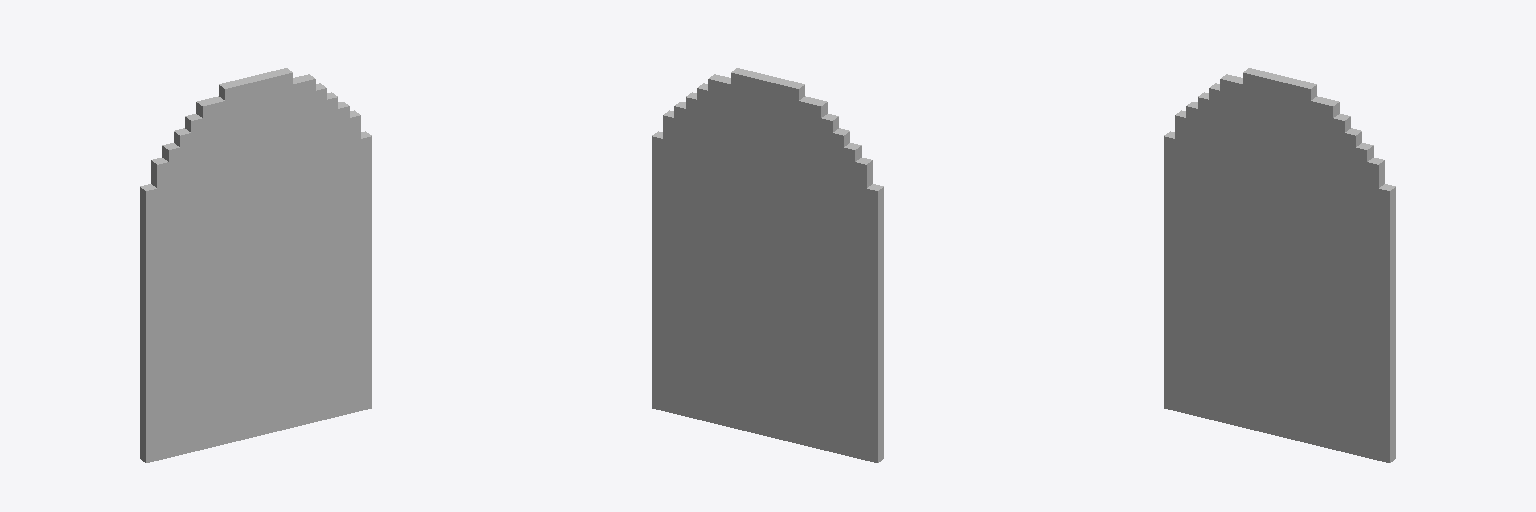
File: door.obj
3 renders of one model, left to right at view 1: azimuth 30°, elevation 25°; view 2: azimuth 150°, elevation 25°; view 3: azimuth 330°, elevation 25°, orthographic.
Visible parts, largest first — view 1: door; view 2: door; view 3: door.
Part boxes in pixels (bbox=[...]): door: bbox=[140, 68, 371, 462]; door: bbox=[652, 68, 883, 462]; door: bbox=[1164, 68, 1395, 462].
Bounding box in the file's own units: 20 × 30 × 1.